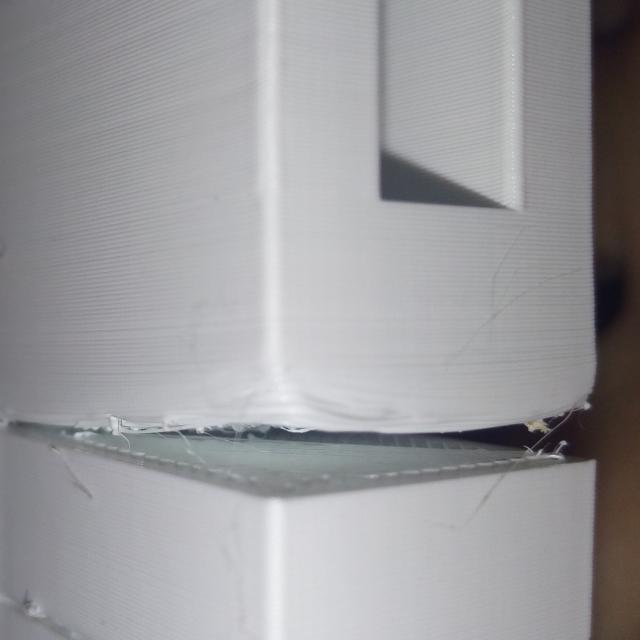Warping: (67, 402, 317, 450), (516, 374, 601, 432)
